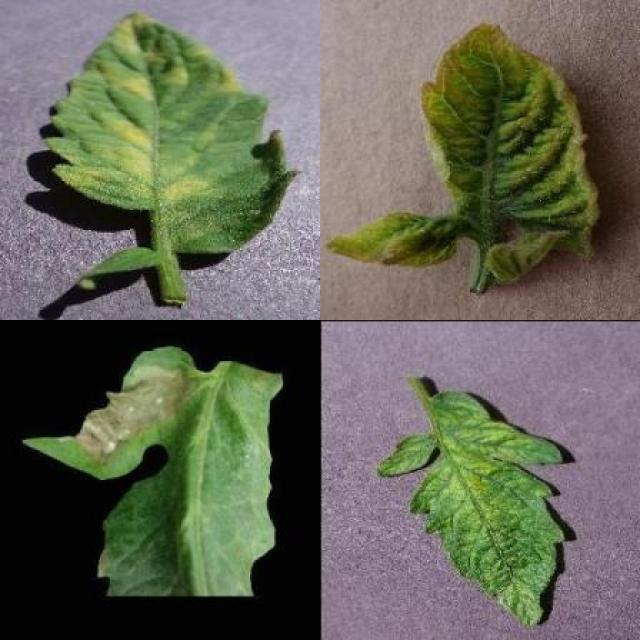Late Blight: (24, 345, 285, 598)
Leaf Mold: (44, 12, 302, 255)
Mosaic Virus: (375, 392, 571, 634)
Yellow Leaf Curl Virus: (327, 23, 599, 286)
